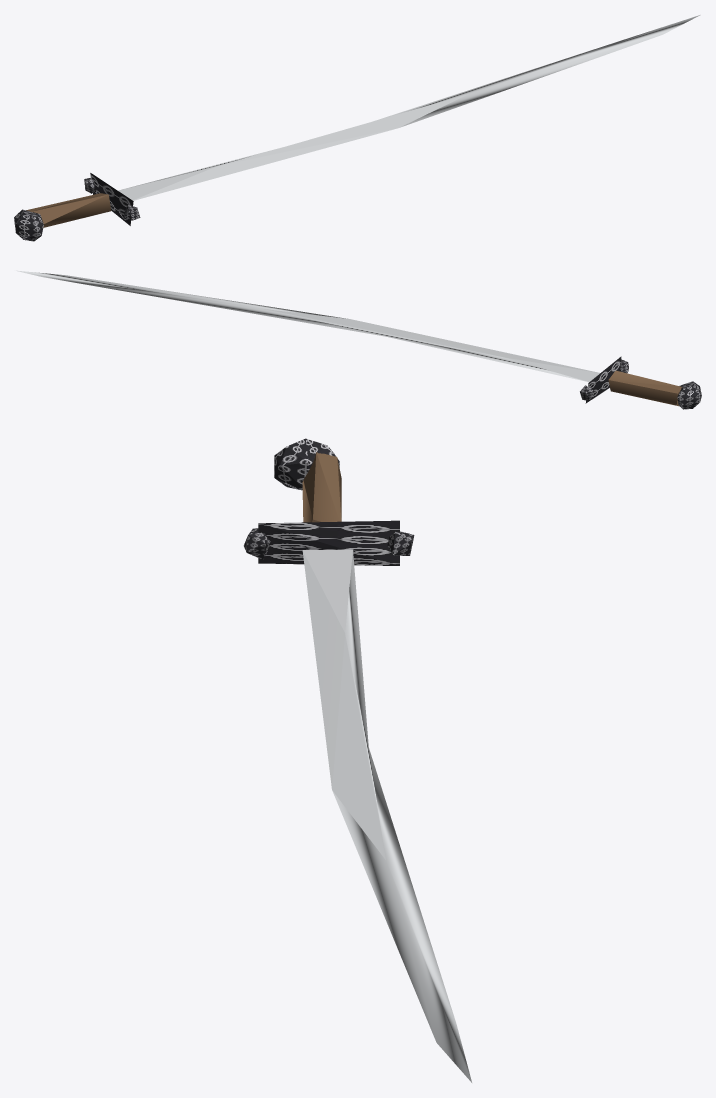
File: saber_lod2.glb
3 renders of one model, top to bottom at view 1: azimuth 30°, elevation 25°; view 2: azimuth 150°, elevation 25°; view 3: azimuth 270°, elevation 25°, orthographic. The views are drawn at different scales.
Parts seen in each view (by area): view 1: m; view 2: m; view 3: m.
Part boxes in pixels (x1=…): m: x1=14, y1=15, x2=700, y2=241; m: x1=16, y1=270, x2=701, y2=409; m: x1=243, y1=438, x2=471, y2=1082.
Bounding box in the file's own units: 0.9452 × 0.0336 × 0.1451.
Materials: 3 (1 with a texture image).
